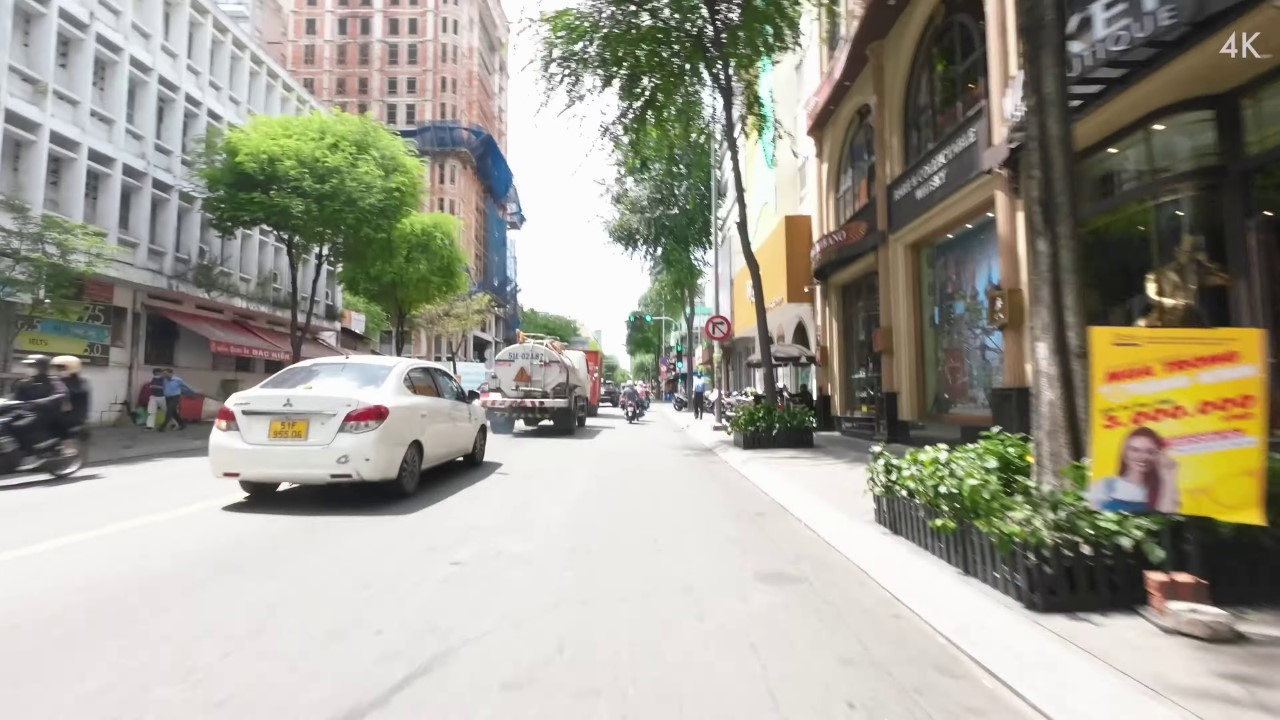cam_re_phai: (704, 314, 731, 342)
